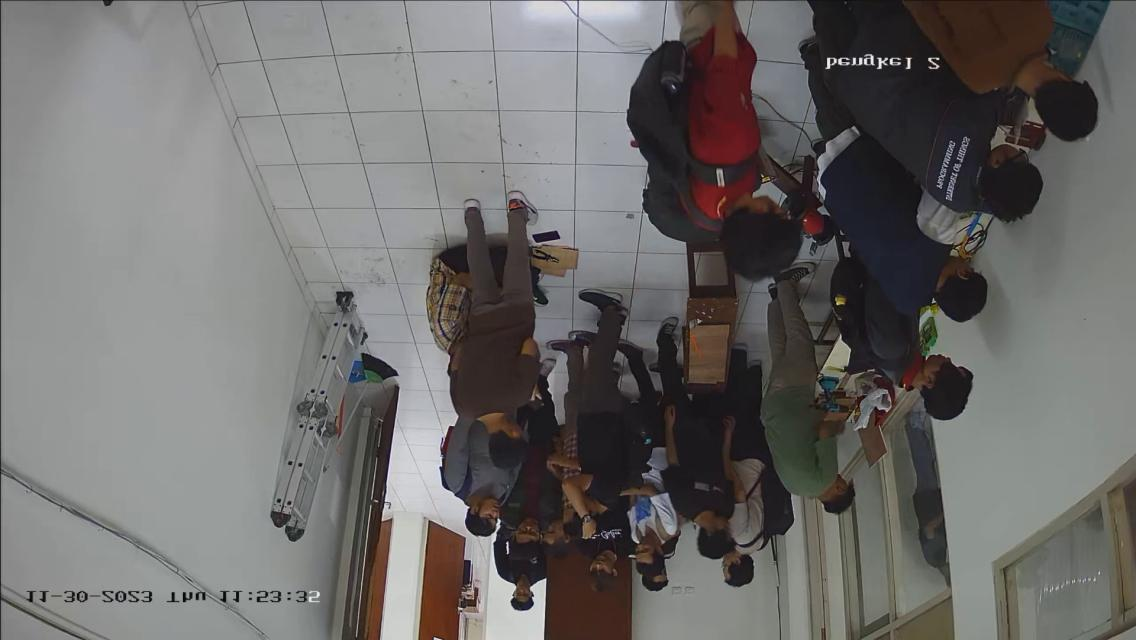Crowd: (428, 193, 890, 617)
